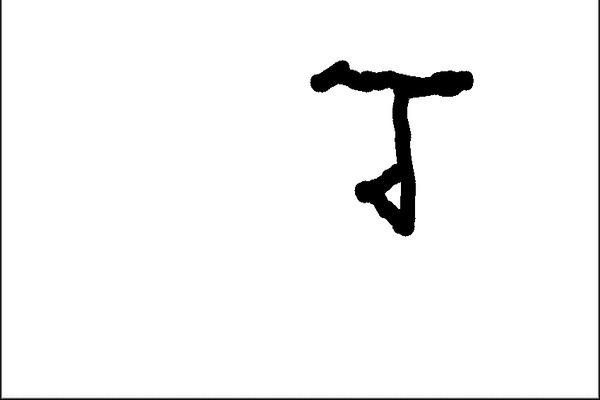J: (304, 49, 483, 242)
